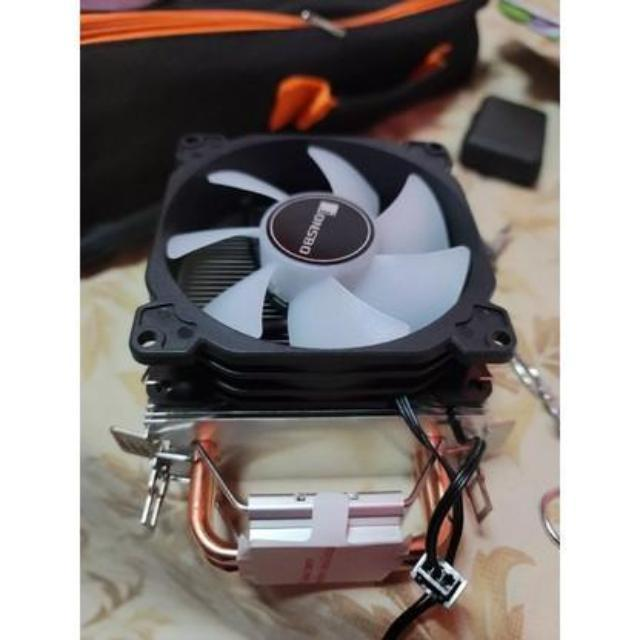CPU_Fan: (136, 130, 507, 578)
